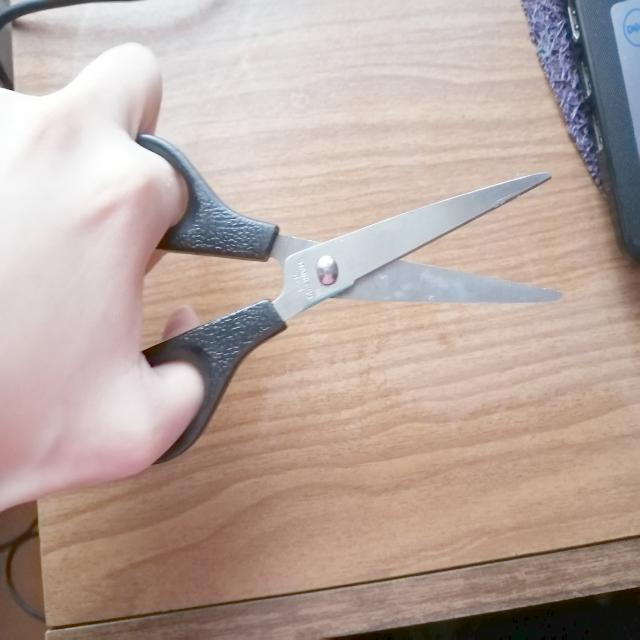scissors: (29, 124, 563, 480)
